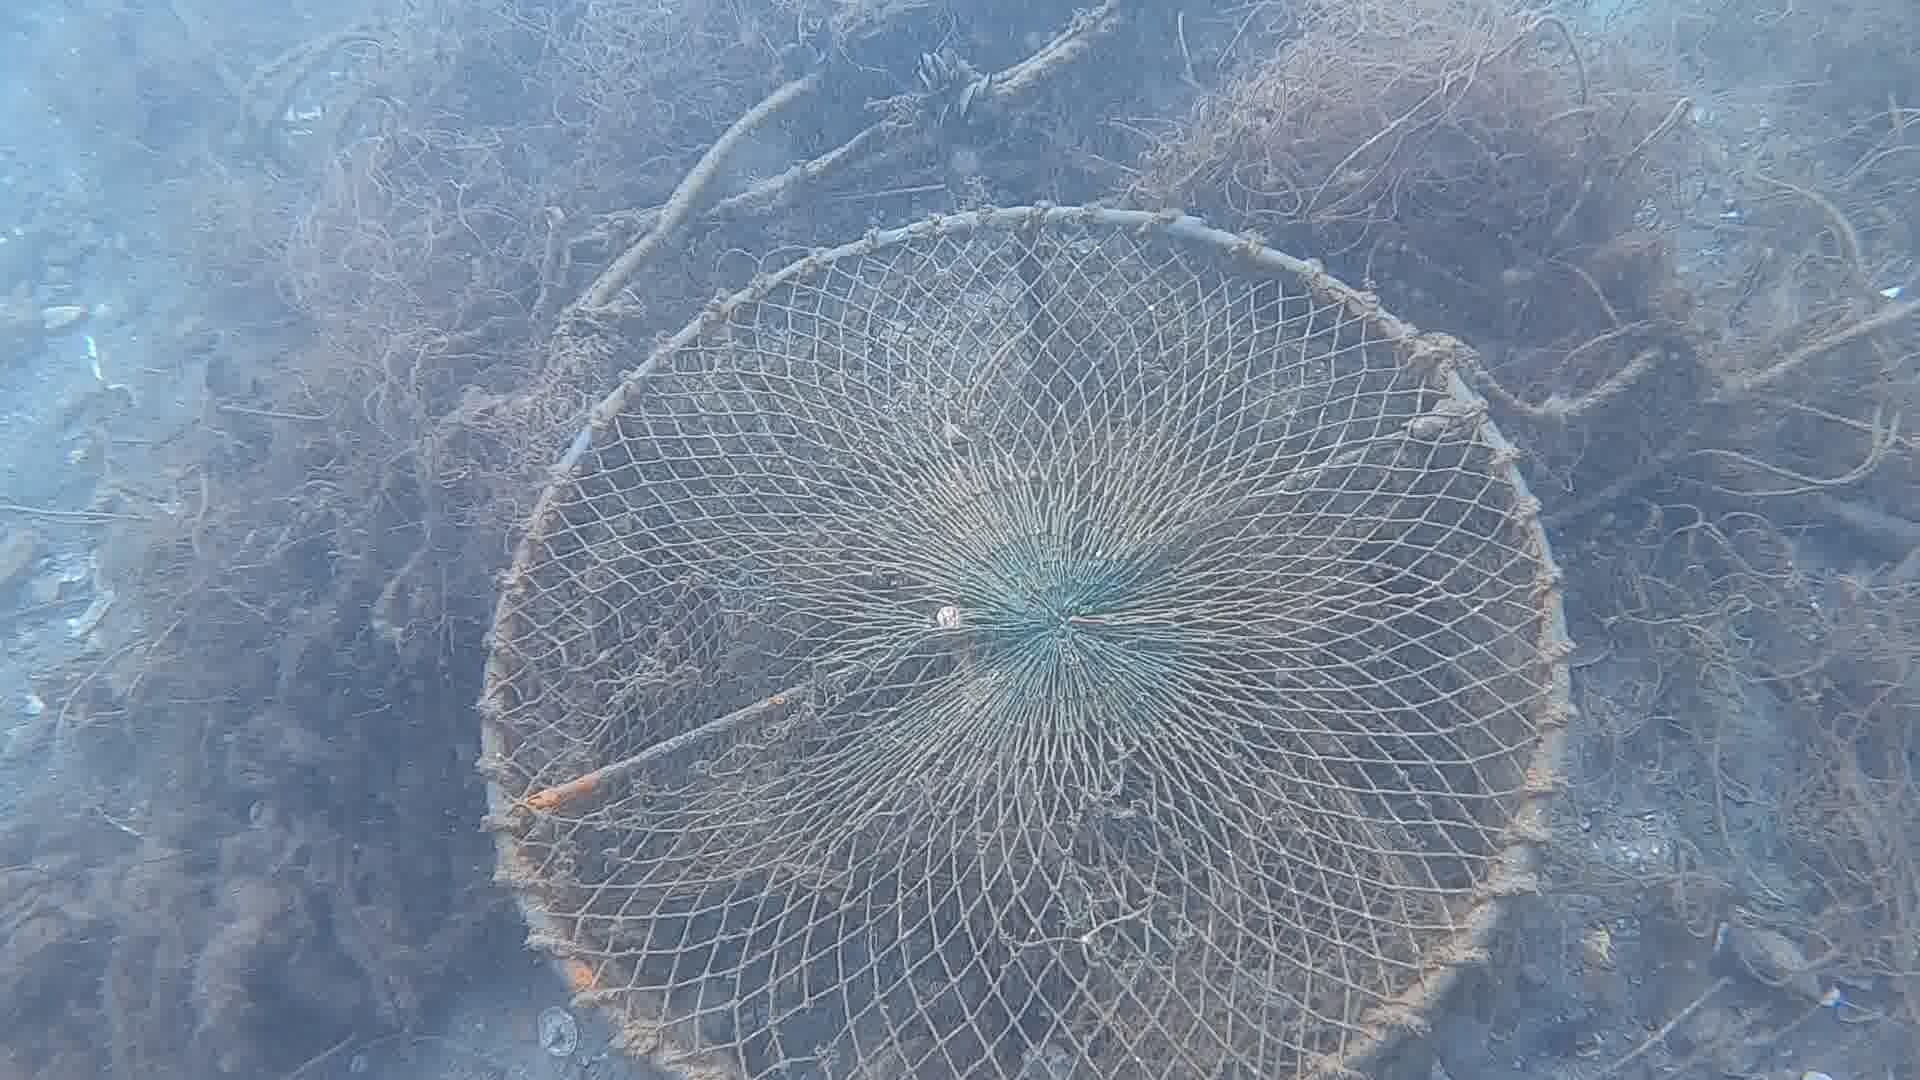circular fish trap: (472, 196, 1575, 1080)
